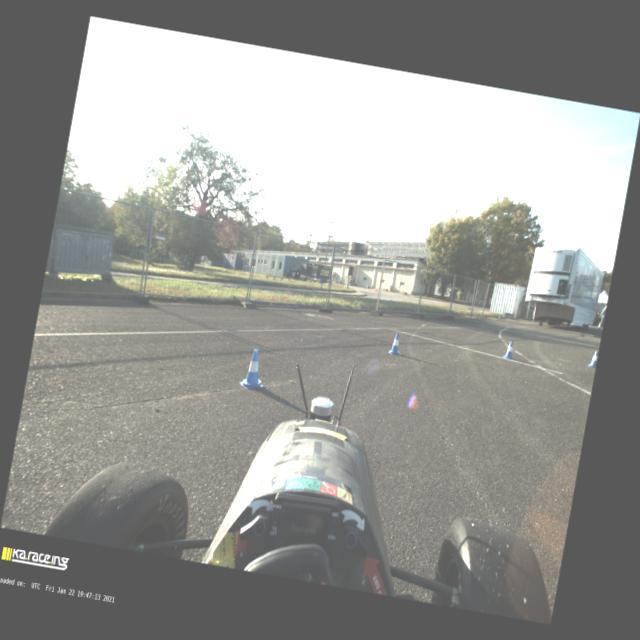blue_cone: (238, 346, 270, 392), (387, 332, 404, 356), (502, 339, 516, 359), (587, 350, 598, 368)
